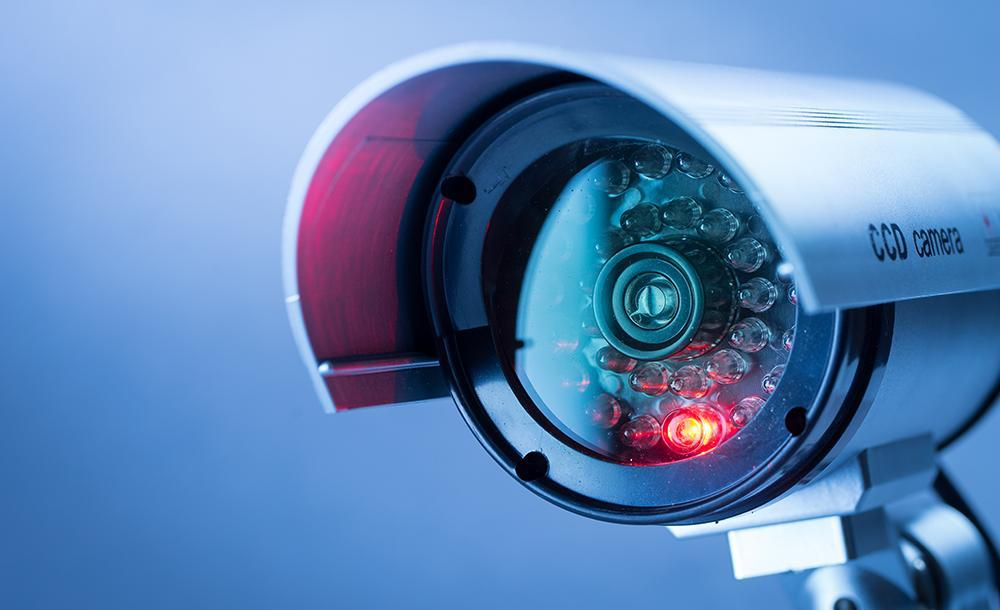CCTV: (284, 42, 1000, 610)
